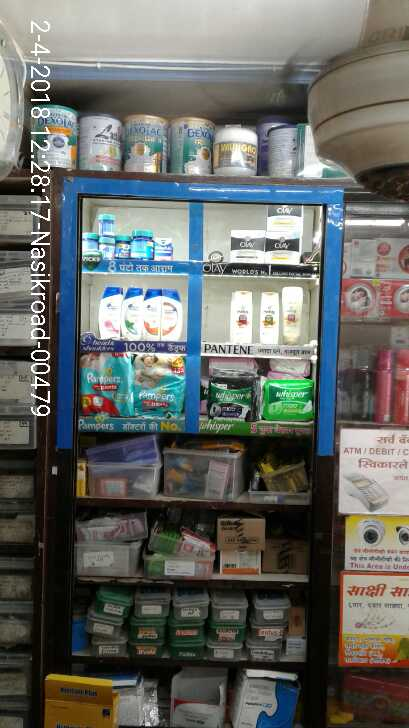vicks: (81, 211, 174, 263)
